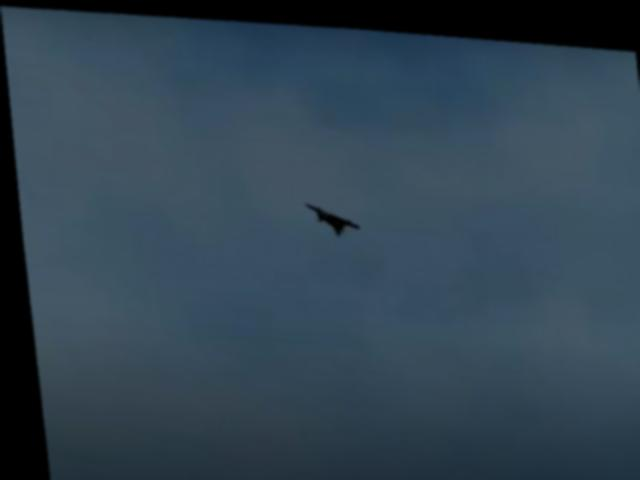uav: (297, 188, 361, 241)
